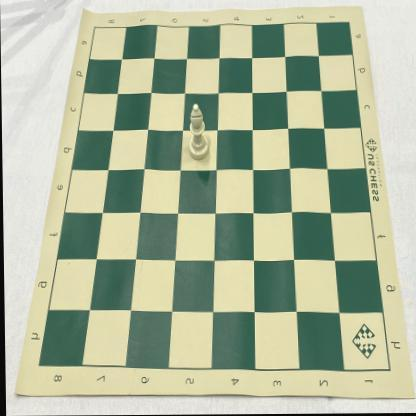white-bishop: (187, 103, 210, 162)
